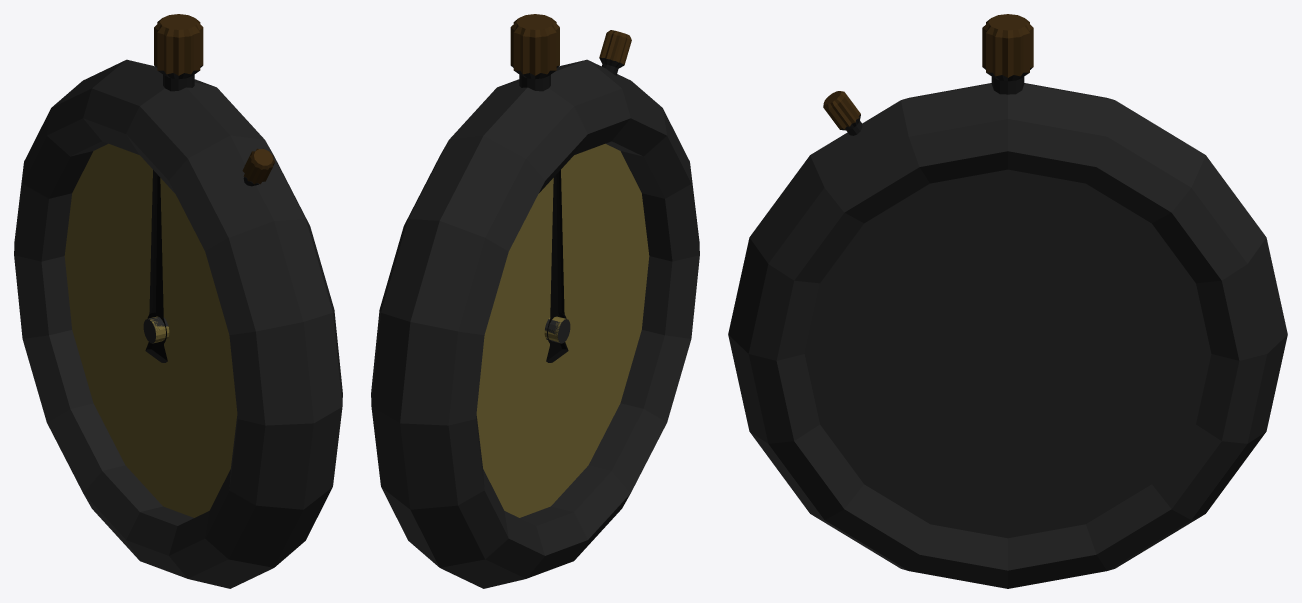
File: FreezeTimer.fbx
The picture shows the model from 3 angles, left to right: view 1: azimuth 30°, elevation 25°; view 2: azimuth 150°, elevation 25°; view 3: azimuth 270°, elevation 25°; orthographic projection. The views are drawn at different scales.
Visible parts, largest first — view 1: stoper; view 2: stoper; view 3: stoper.
Boxes of the visible parts, <box> form: stoper: <box>14,14,342,588</box>; stoper: <box>371,14,699,588</box>; stoper: <box>728,14,1287,588</box>.
Bounding box in the file's own units: 28.21 × 141 × 126.
